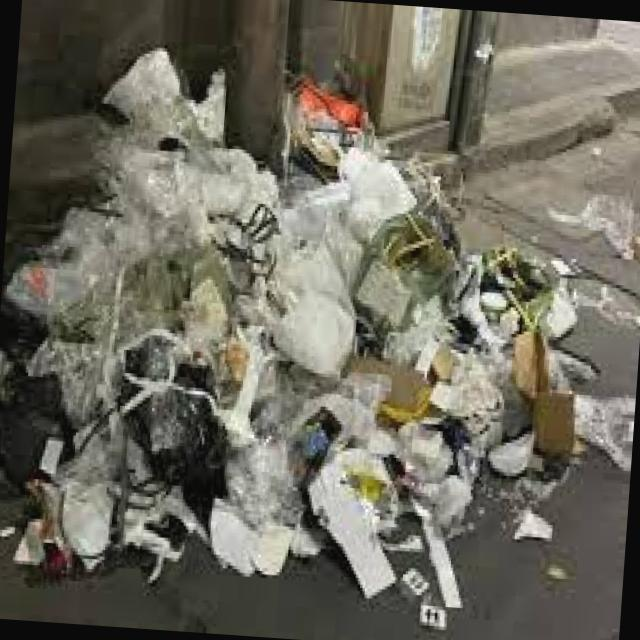garbage: (0, 40, 624, 615)
